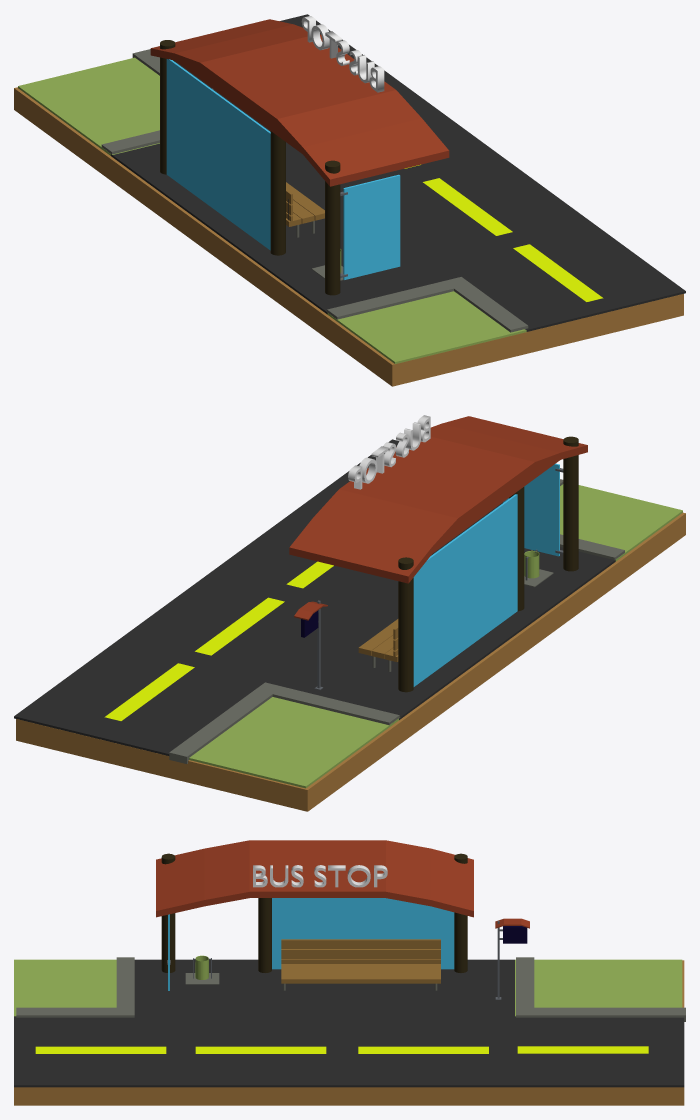
Rendered from bus_stop.glb.
3 views of the same model, one above another, from view 1: azimuth 30°, elevation 25°; view 2: azimuth 150°, elevation 25°; view 3: azimuth 270°, elevation 25° (orthographic). The views are drawn at different scales.
Parts seen in each view (by area): view 1: Road, Shade, Ground, Back glass, Grass, Grass.001, Grass.002, Addframe, Poles, Roadmarks, Text, Grass.005 (+3 smaller); view 2: Road, Shade, Ground, Grass, Back glass, Grass.001, Poles, Grass.002, Roadmarks, Addframe, Text, Grass.003 (+3 smaller); view 3: Road, Shade, Grass, Ground, Back glass, Grass.001, Grass.002, Roadmarks, T_Back_Seat, T_Seat, Poles, Grass.003 (+5 smaller).
Part boxes in pixels (x1,y1,x2,y2): Road: (175,14,685,331); Shade: (150,19,449,186); Ground: (14,87,683,386); Back glass: (166,59,270,250); Grass: (111,143,455,314); Grass.001: (18,57,159,155); Grass.002: (327,291,526,363); Addframe: (343,174,400,279); Poles: (160,40,340,295); Roadmarks: (404,164,603,301); Text: (301,16,384,92); Grass.005: (327,277,471,319); Road: (14,439,502,755); Shade: (289,416,587,583); Ground: (16,512,685,811); Grass: (272,547,615,719); Back glass: (413,494,517,686); Grass.001: (189,697,398,788); Poles: (398,436,578,692); Grass.002: (560,484,682,561); Roadmarks: (104,561,333,720); Addframe: (503,463,559,556); Text: (348,415,430,489); Grass.003: (169,690,272,763); Road: (14,1016,684,1087); Shade: (156,840,473,917); Grass: (134,959,514,1016); Ground: (14,960,684,1105); Back glass: (272,898,454,969); Grass.001: (515,959,682,1016); Grass.002: (14,959,116,1016); Roadmarks: (35,1046,648,1053); T_Back_Seat: (281,939,440,963); T_Seat: (281,964,440,983); Poles: (161,853,467,972); Grass.003: (531,1007,685,1021).
Bounding box in the file's own units: 9.18 × 5.61 × 20.54.
